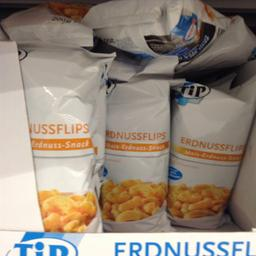chips: (7, 46, 106, 232), (169, 76, 247, 228), (96, 74, 171, 228)
